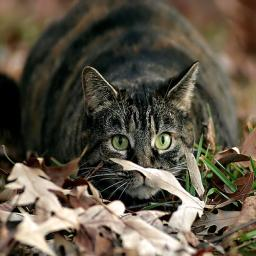catnose: (139, 171, 147, 180)
